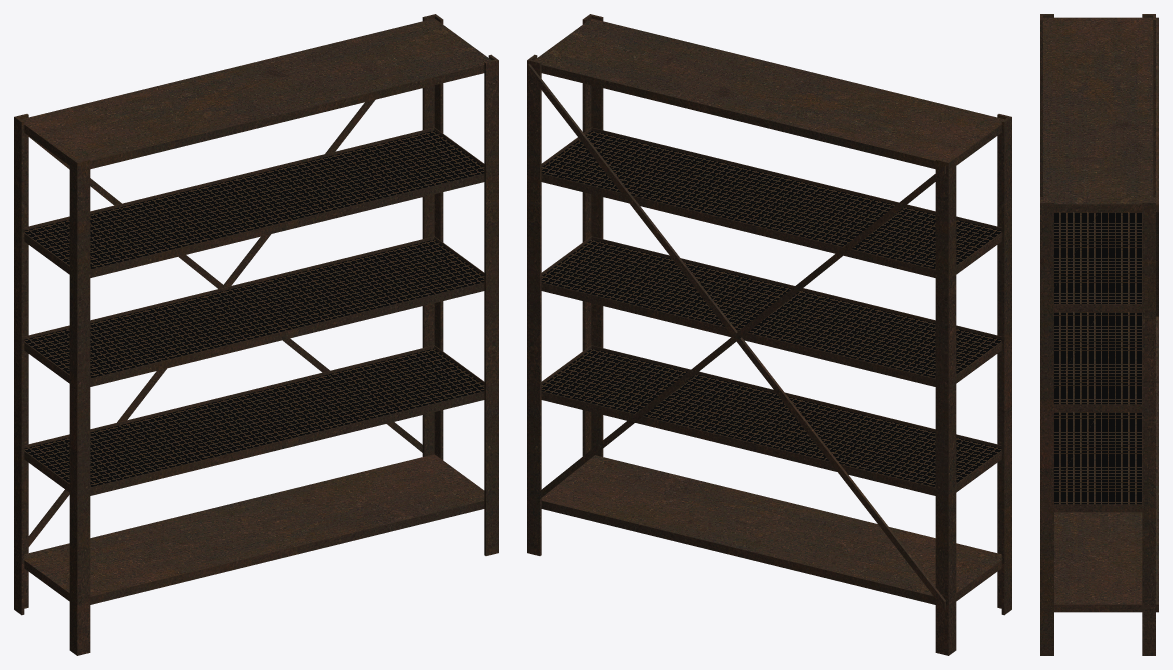
File: shelf_mx_4.glb
The picture shows the model from 3 angles, left to right: view 1: azimuth 30°, elevation 25°; view 2: azimuth 150°, elevation 25°; view 3: azimuth 270°, elevation 25°; orthographic projection. The views are drawn at different scales.
Parts seen in each view (by area): view 1: shelf_mx_4; view 2: shelf_mx_4; view 3: shelf_mx_4.
Part boxes in pixels (bbox=[...]): shelf_mx_4: bbox=[14, 14, 498, 655]; shelf_mx_4: bbox=[527, 14, 1011, 655]; shelf_mx_4: bbox=[1040, 14, 1158, 655].
Bounding box in the file's own units: 1.62 × 1.81 × 0.43.
Materials: 2 (2 with a texture image).
